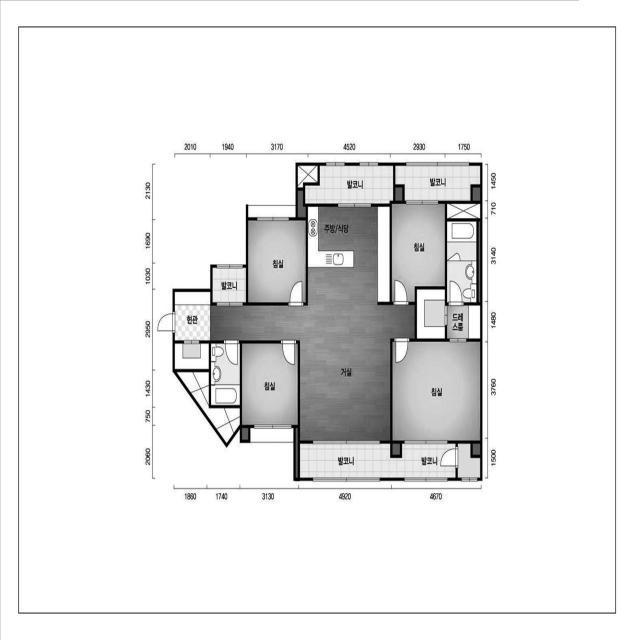space_balconi: (300, 444, 455, 478), (305, 165, 393, 204), (395, 166, 480, 201), (211, 343, 240, 405), (213, 268, 246, 302)
space_bedroom: (392, 341, 480, 441), (392, 204, 445, 302), (248, 220, 306, 302), (242, 343, 298, 425)
space_dressroom: (417, 289, 480, 338)
space_front: (175, 292, 210, 369)
space_kitchen: (308, 207, 390, 305)
space_living_room: (211, 305, 415, 441)
space_other: (177, 372, 240, 443), (297, 165, 318, 217), (458, 444, 480, 478), (447, 204, 480, 219), (296, 428, 298, 478), (473, 187, 480, 201), (396, 187, 402, 201), (479, 221, 480, 302), (393, 444, 400, 455), (242, 428, 248, 440)
space_toilet: (447, 221, 476, 302)
